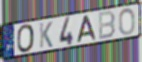4: (58, 15, 75, 47)
A: (76, 15, 97, 44)
B: (97, 10, 116, 41)
K: (39, 21, 54, 50)
O: (16, 23, 35, 54), (118, 8, 136, 37)
